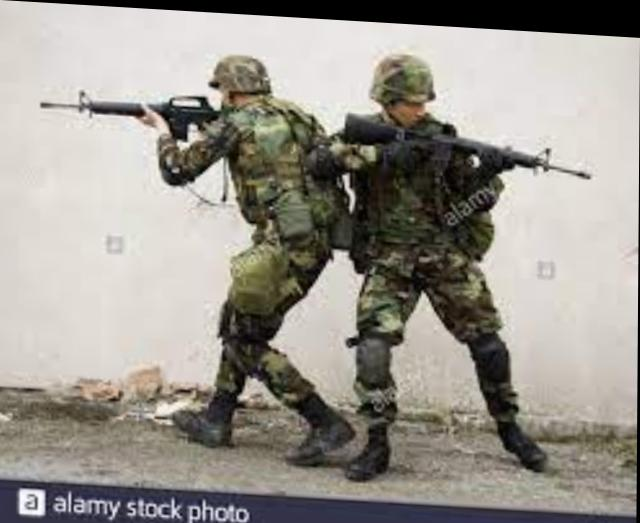other: (335, 48, 478, 461), (198, 50, 339, 452)
